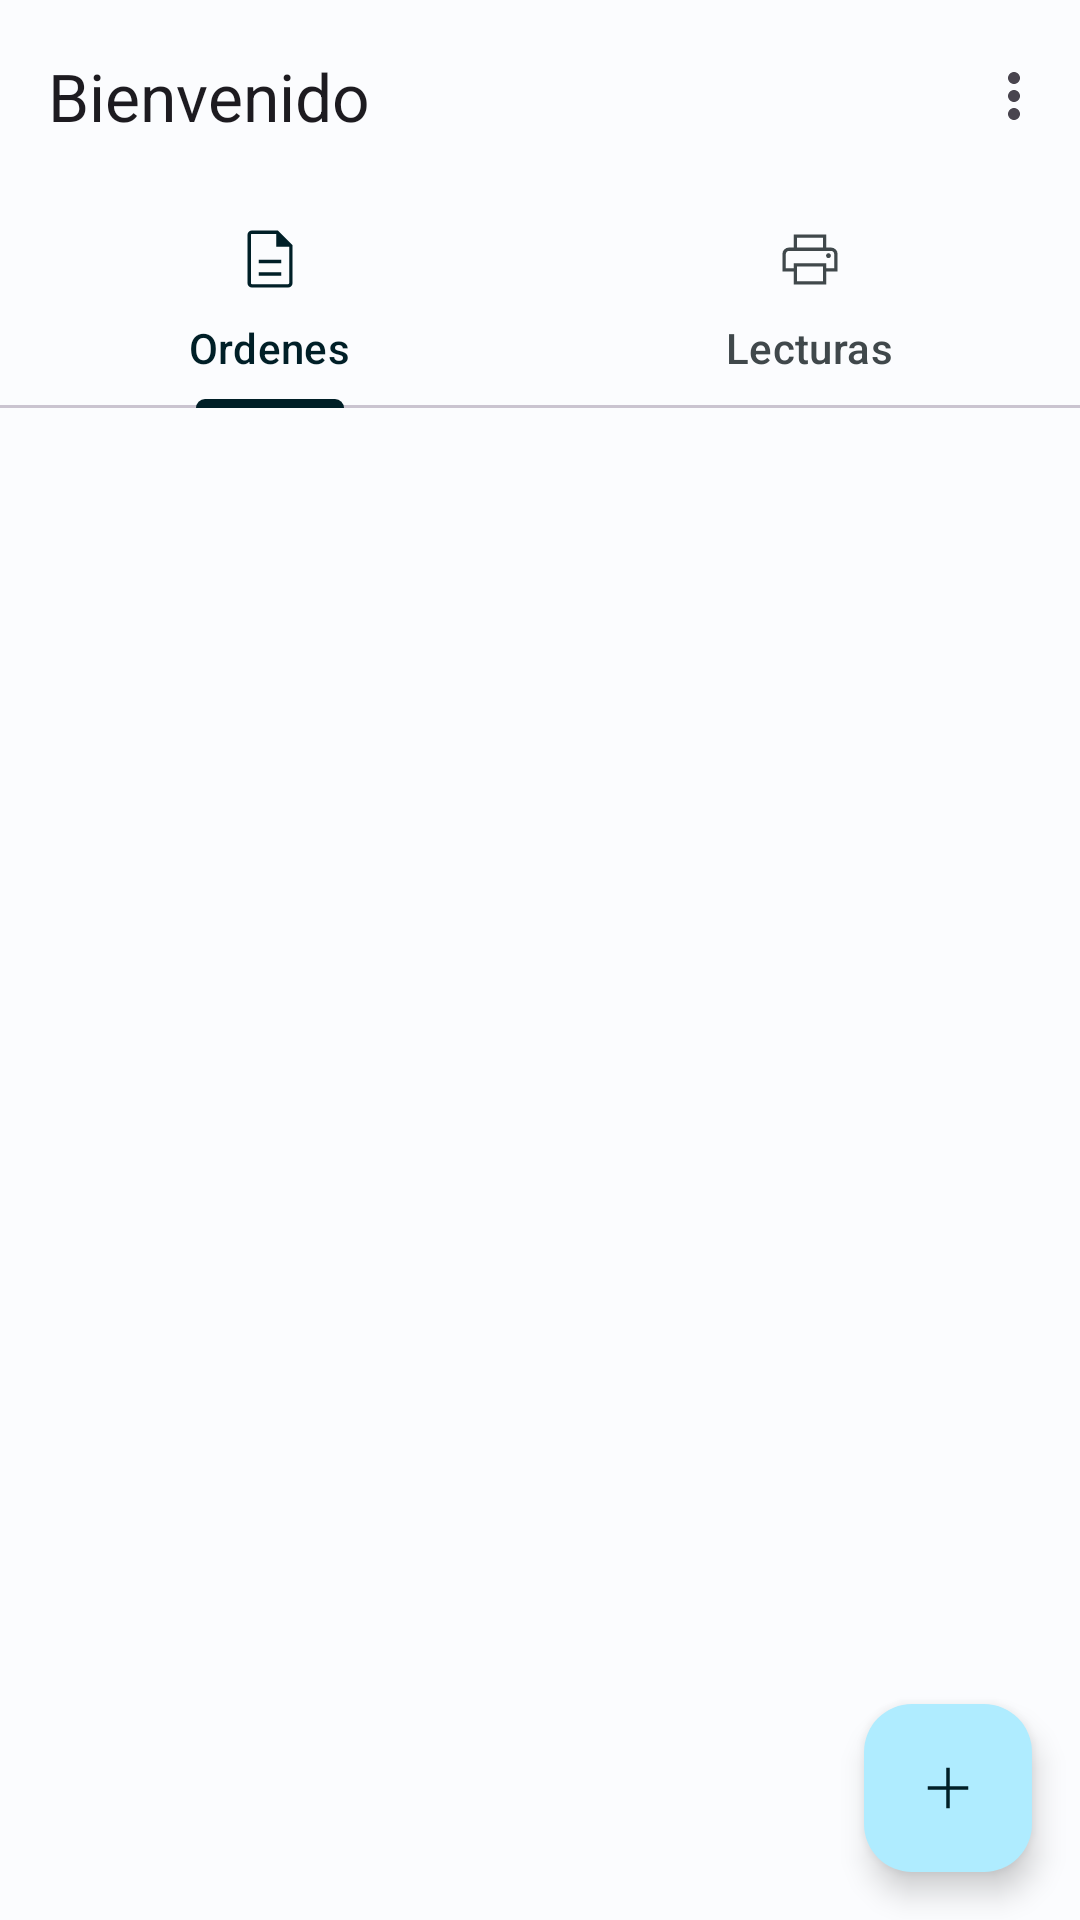

Where to tap for icons on this 1080 x 1920 app screen, as (x,y):
nueva: (948,1788)
